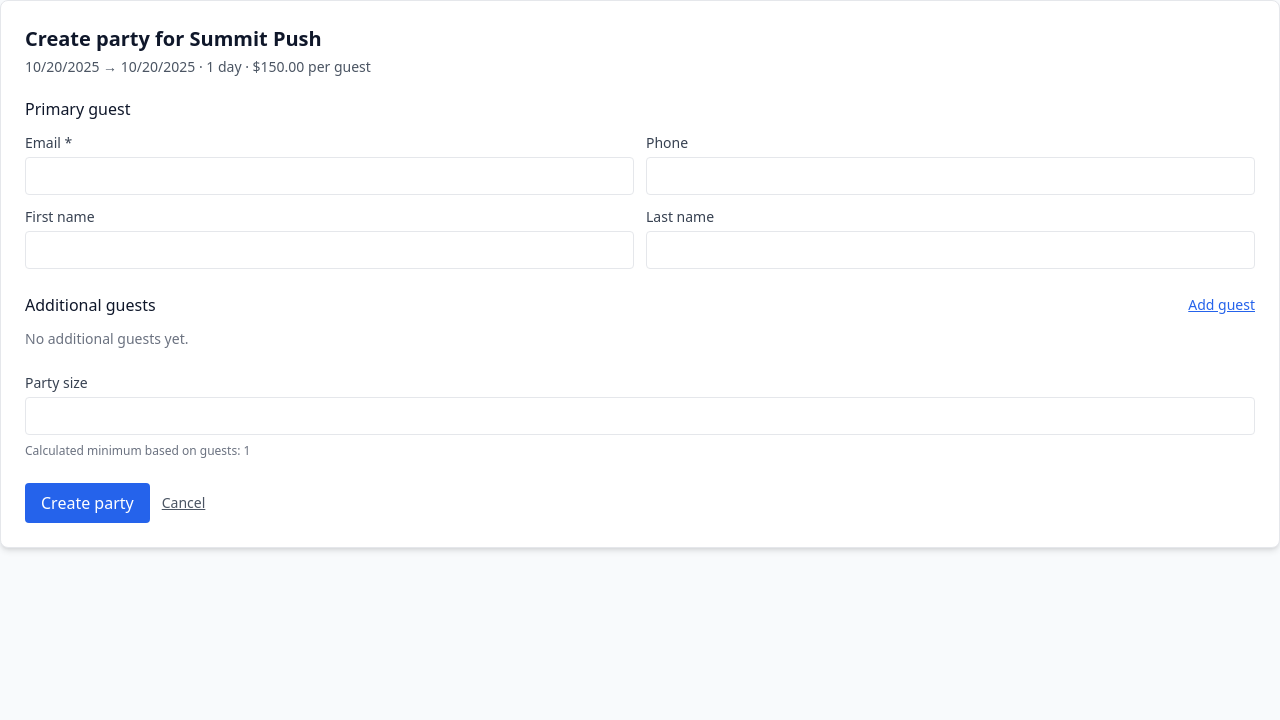
Scenario: CreatePartyForm › handles API errors
Type "guest@example.com" into the field labelled "Email *" at coordinates (330, 176), box [25, 157, 634, 195]
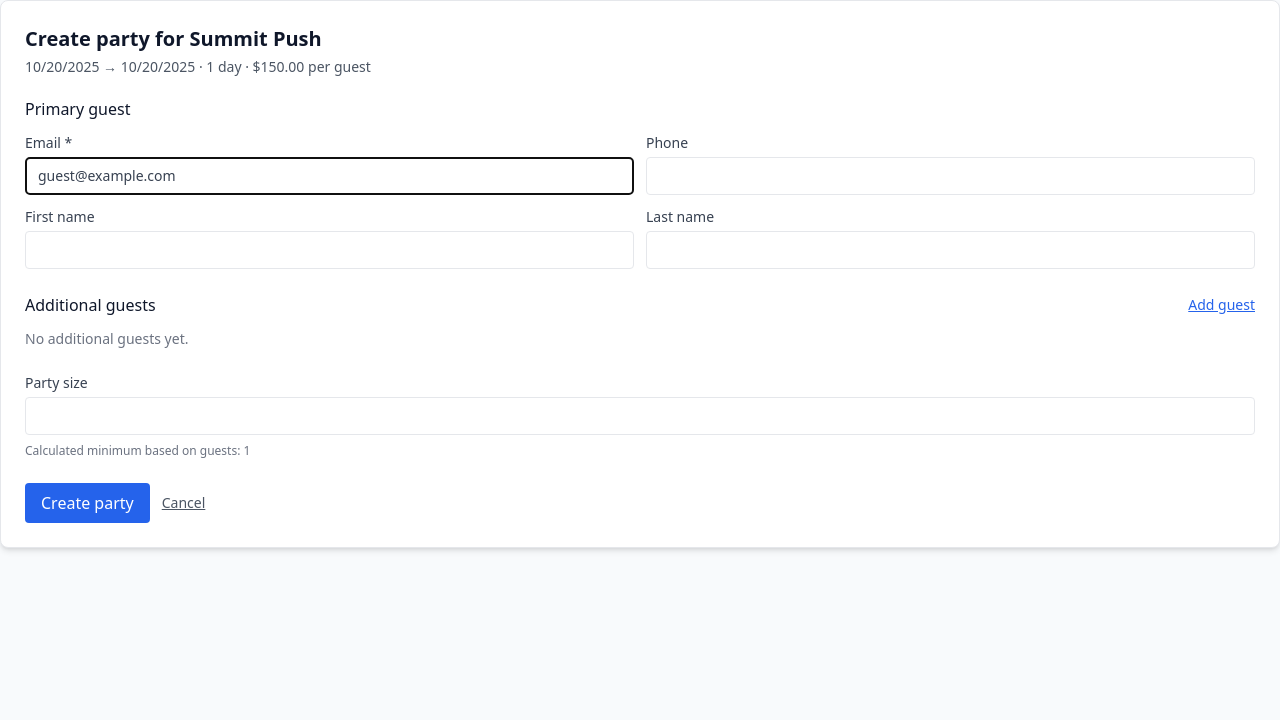
Click the button "Create party" at coordinates (87, 503), box [25, 483, 150, 523]
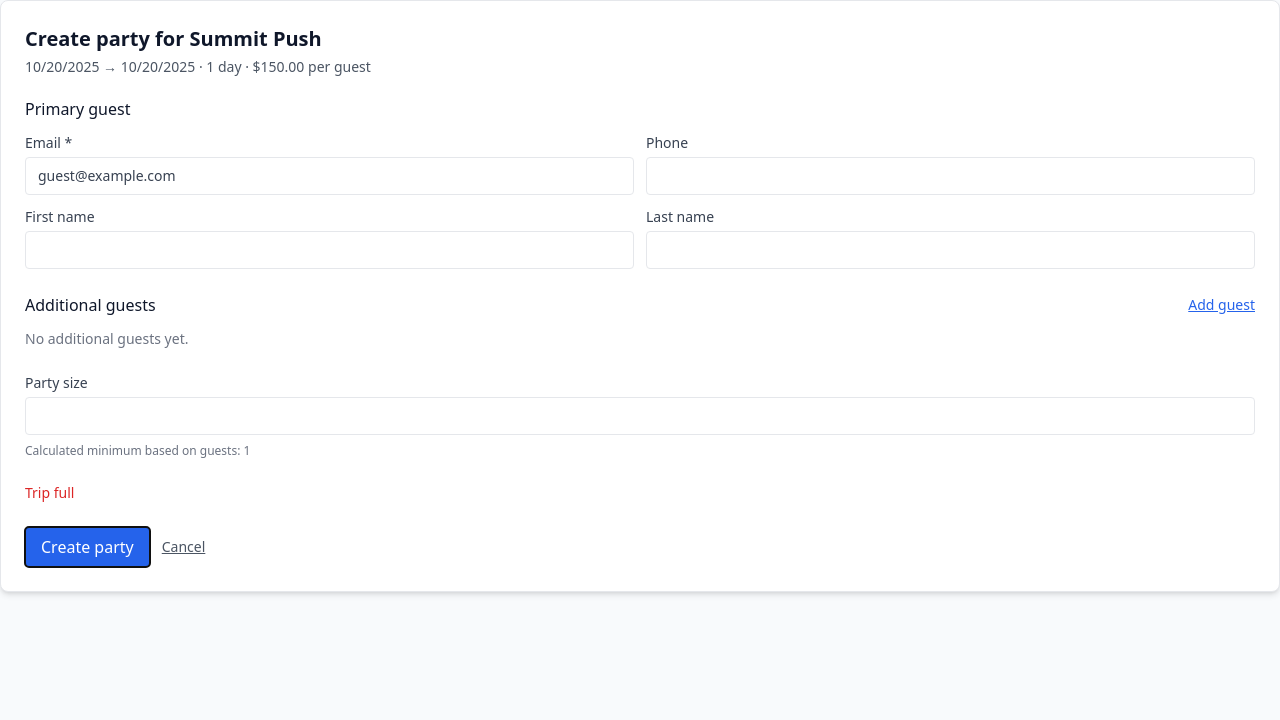
Check: the text "Trip full" is shown, box [25, 483, 74, 502]
